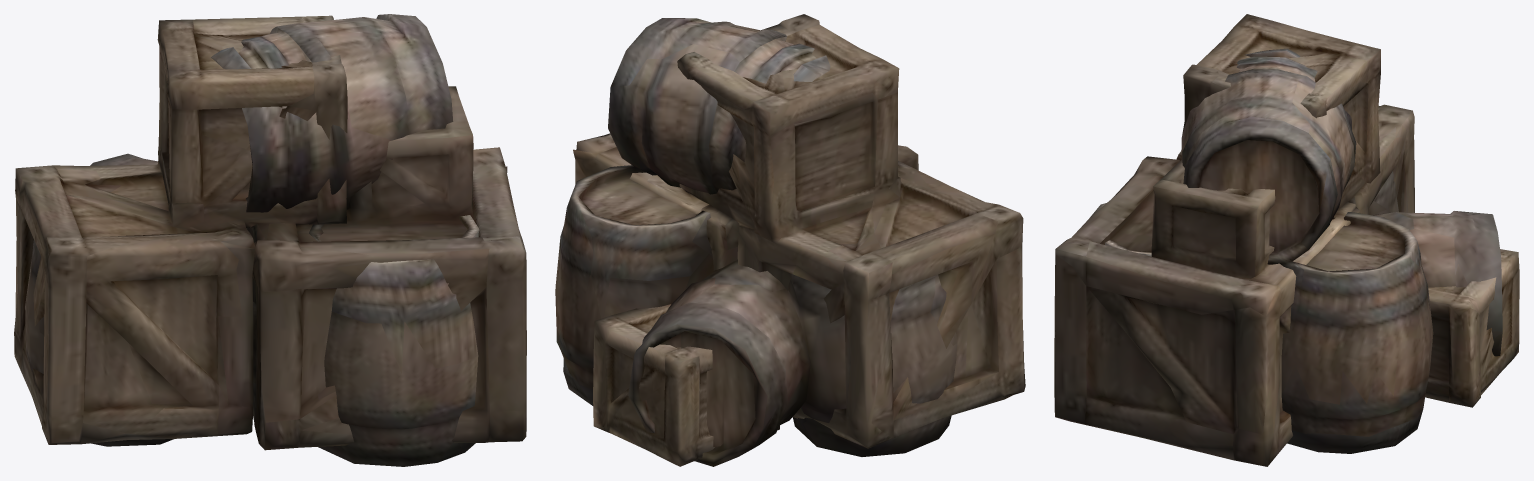
The model's file is town.glb.
3 views of the same model, side by side, from view 1: azimuth 30°, elevation 25°; view 2: azimuth 150°, elevation 25°; view 3: azimuth 270°, elevation 25° (orthographic). The views are drawn at different scales.
Parts seen in each view (by area): view 1: crates, barrels; view 2: crates, barrels; view 3: crates, barrels.
Boxes of the visible parts, <box> form: crates: <box>14,15,526,450</box>; barrels: <box>25,14,479,466</box>; crates: <box>573,14,1025,466</box>; barrels: <box>555,18,957,466</box>; crates: <box>1054,14,1519,466</box>; barrels: <box>1090,48,1502,453</box>.
Bounding box in the file's own units: 0.3067 × 0.2255 × 0.2968.
Materials: 1 (1 with a texture image).
